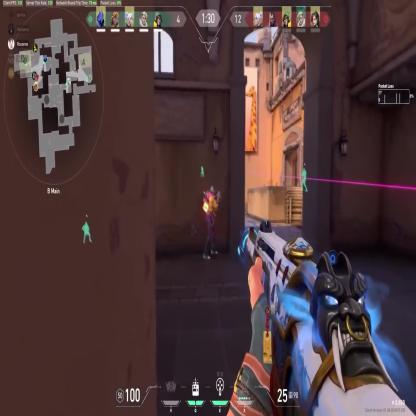enemy: (203, 185, 221, 261)
enemy_head: (209, 186, 214, 194)
